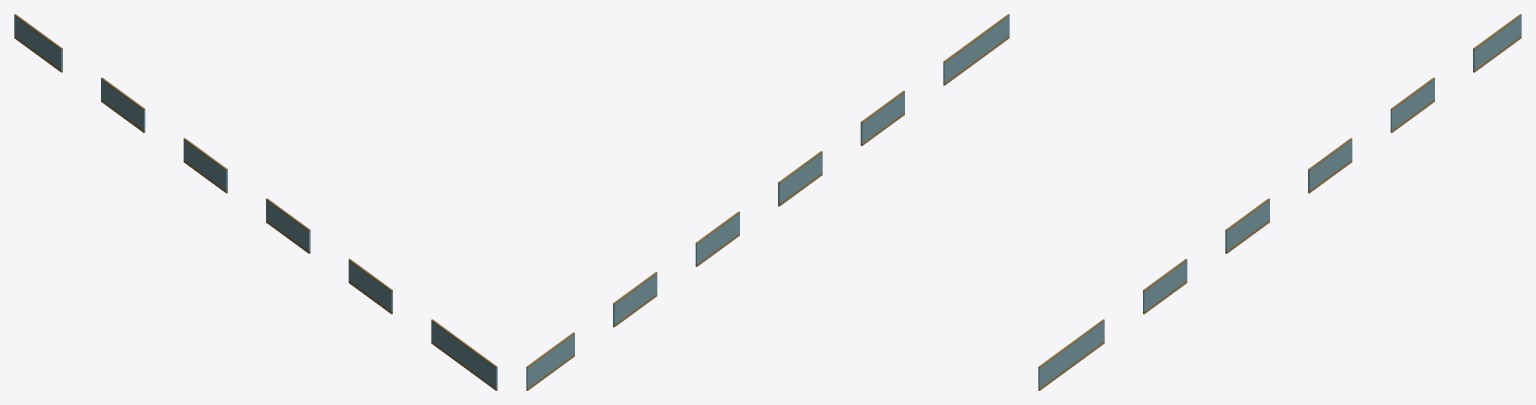
Rendered from D04_STARBOARD_NORTH_ENTRYGUARDSUCCESSORS_r001.glb.
The picture shows the model from 3 angles, left to right: view 1: azimuth 30°, elevation 25°; view 2: azimuth 150°, elevation 25°; view 3: azimuth 330°, elevation 25°; orthographic projection.
Visible parts, largest first — view 1: D04SFH_D04SF_OuterGuard_01_Successor_5, D04SFH_D04SF_OuterGuard_01_Successor_0, D04SFH_D04SF_OuterGuard_01_Successor_1, D04SFH_D04SF_OuterGuard_01_Successor_4, D04SFH_D04SF_OuterGuard_01_Successor_2, D04SFH_D04SF_OuterGuard_01_Successor_3; view 2: D04SFH_D04SF_OuterGuard_01_Successor_5, D04SFH_D04SF_OuterGuard_01_Successor_0, D04SFH_D04SF_OuterGuard_01_Successor_2, D04SFH_D04SF_OuterGuard_01_Successor_1, D04SFH_D04SF_OuterGuard_01_Successor_4, D04SFH_D04SF_OuterGuard_01_Successor_3; view 3: D04SFH_D04SF_OuterGuard_01_Successor_5, D04SFH_D04SF_OuterGuard_01_Successor_0, D04SFH_D04SF_OuterGuard_01_Successor_1, D04SFH_D04SF_OuterGuard_01_Successor_4, D04SFH_D04SF_OuterGuard_01_Successor_3, D04SFH_D04SF_OuterGuard_01_Successor_2.
Part boxes in pixels (x1,y1,x2,y2): D04SFH_D04SF_OuterGuard_01_Successor_5: [431, 321, 497, 388]; D04SFH_D04SF_OuterGuard_01_Successor_0: [14, 16, 62, 69]; D04SFH_D04SF_OuterGuard_01_Successor_1: [101, 79, 145, 130]; D04SFH_D04SF_OuterGuard_01_Successor_4: [348, 261, 392, 311]; D04SFH_D04SF_OuterGuard_01_Successor_2: [183, 140, 227, 190]; D04SFH_D04SF_OuterGuard_01_Successor_3: [266, 200, 310, 250]; D04SFH_D04SF_OuterGuard_01_Successor_5: [943, 16, 1009, 82]; D04SFH_D04SF_OuterGuard_01_Successor_0: [526, 334, 574, 387]; D04SFH_D04SF_OuterGuard_01_Successor_2: [695, 213, 739, 264]; D04SFH_D04SF_OuterGuard_01_Successor_1: [613, 274, 657, 324]; D04SFH_D04SF_OuterGuard_01_Successor_4: [860, 92, 904, 143]; D04SFH_D04SF_OuterGuard_01_Successor_3: [778, 153, 822, 203]; D04SFH_D04SF_OuterGuard_01_Successor_5: [1038, 321, 1104, 387]; D04SFH_D04SF_OuterGuard_01_Successor_0: [1473, 16, 1521, 69]; D04SFH_D04SF_OuterGuard_01_Successor_1: [1390, 79, 1434, 130]; D04SFH_D04SF_OuterGuard_01_Successor_4: [1143, 261, 1187, 311]; D04SFH_D04SF_OuterGuard_01_Successor_3: [1225, 200, 1269, 250]; D04SFH_D04SF_OuterGuard_01_Successor_2: [1308, 140, 1352, 190].
Bounding box in the file's own units: 0.08 × 1.18 × 43.2.
Materials: 2 (1 with a texture image).
